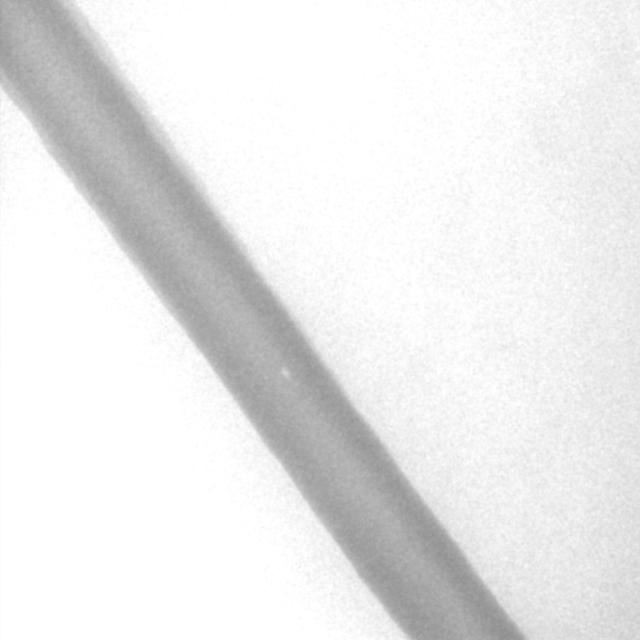air-hole: (282, 368, 286, 380)
